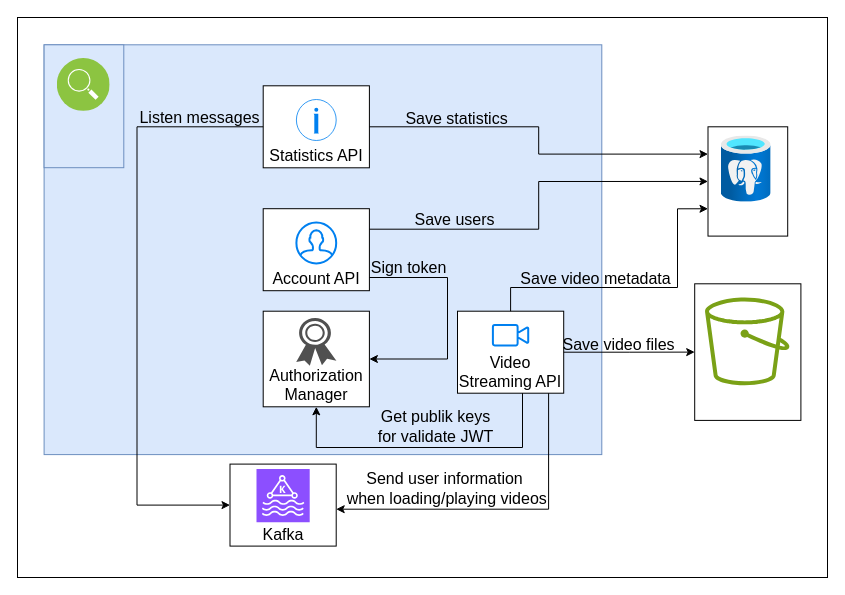
This 845x595 diagram has some shape labels left out. Here are the shapes that lost their labels. From the top down, the centre of each, then its label:
the point at 83,84: Service Discovery
the point at 746,168: Database
the point at 746,341: MinIo Storage
